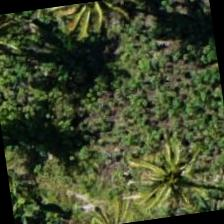Kelapa_Sawit: (124, 129, 223, 223)
